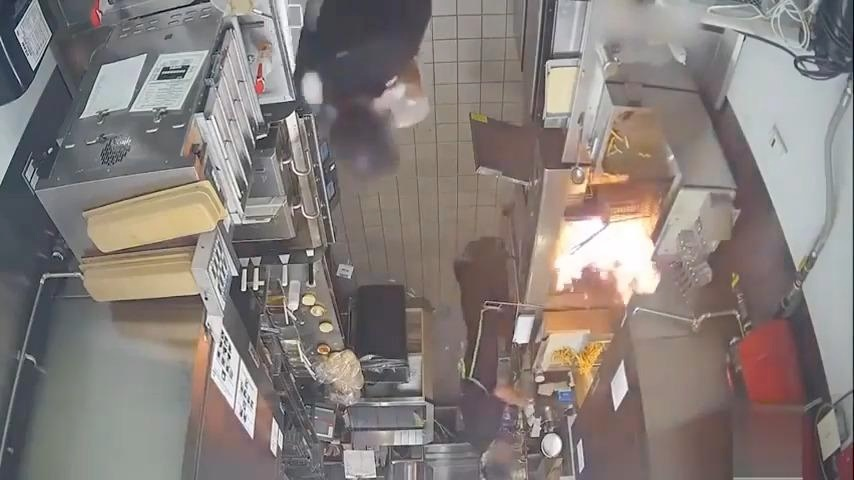fire: (550, 205, 667, 308)
